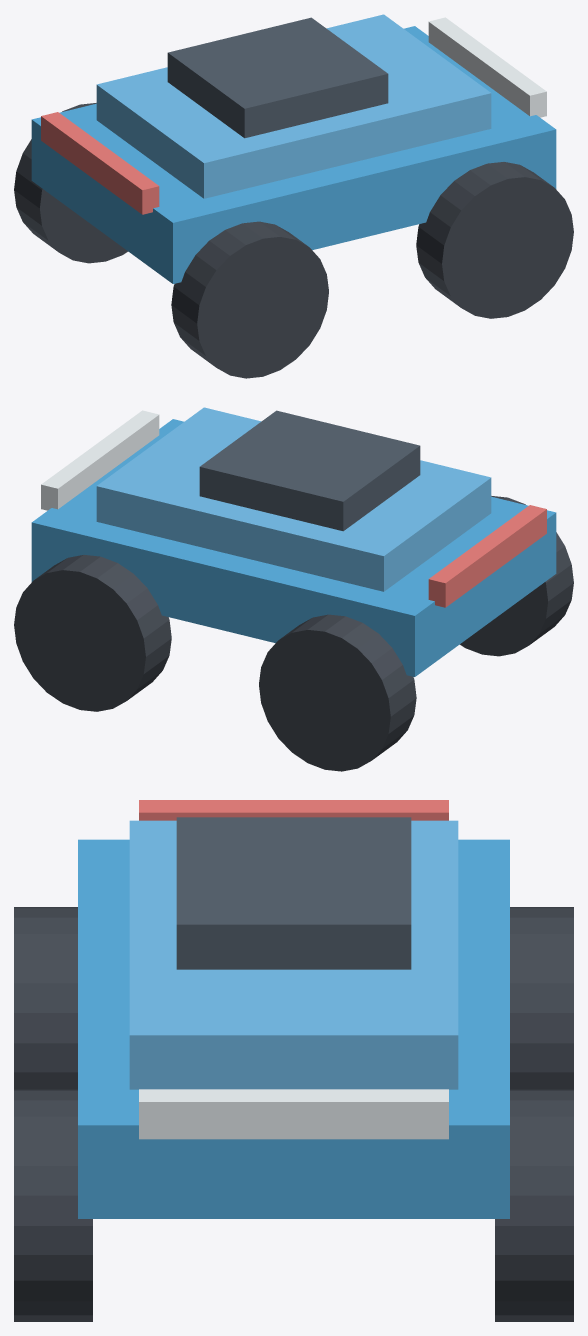
Rendered from robot-car.glb.
3 renders of one model, top to bottom at view 1: azimuth 30°, elevation 25°; view 2: azimuth 150°, elevation 25°; view 3: azimuth 270°, elevation 25°, orthographic. The views are drawn at different scales.
Visible parts, largest first — view 1: chassis, upper_deck, wheel_4, wheel_2, sensor_module, wheel_3, rear_sensor_bar, front_sensor_bar; view 2: chassis, upper_deck, wheel_3, wheel_1, sensor_module, wheel_4, rear_sensor_bar, front_sensor_bar; view 3: chassis, upper_deck, sensor_module, wheel_1, wheel_2, front_sensor_bar, wheel_3, wheel_4, rear_sensor_bar.
Part boxes in pixels (box(x1,y1,x2,y2)): chassis: box(31, 26, 556, 283); upper_deck: box(96, 14, 491, 198); wheel_4: box(171, 221, 328, 378); wheel_2: box(416, 162, 573, 318); sensor_module: box(167, 17, 388, 138); wheel_3: box(14, 103, 127, 263); rear_sensor_bar: box(41, 112, 159, 214); front_sensor_bar: box(428, 17, 546, 117); chassis: box(31, 419, 556, 676); upper_deck: box(96, 407, 491, 591); wheel_3: box(259, 614, 416, 771); wheel_1: box(14, 555, 171, 711); sensor_module: box(199, 410, 420, 531); wheel_4: box(460, 496, 573, 656); rear_sensor_bar: box(428, 505, 546, 607); front_sensor_bar: box(41, 410, 159, 510); chassis: box(78, 839, 509, 1218); upper_deck: box(129, 820, 458, 1089); sensor_module: box(176, 817, 411, 969); wheel_1: box(495, 1089, 573, 1321); wheel_2: box(14, 1089, 92, 1321); front_sensor_bar: box(139, 1089, 448, 1139); wheel_3: box(510, 907, 573, 1089); wheel_4: box(14, 907, 77, 1089); rear_sensor_bar: box(139, 800, 448, 820).
Size of the model in its own units: 3.8 by 1.98 by 2.98.
